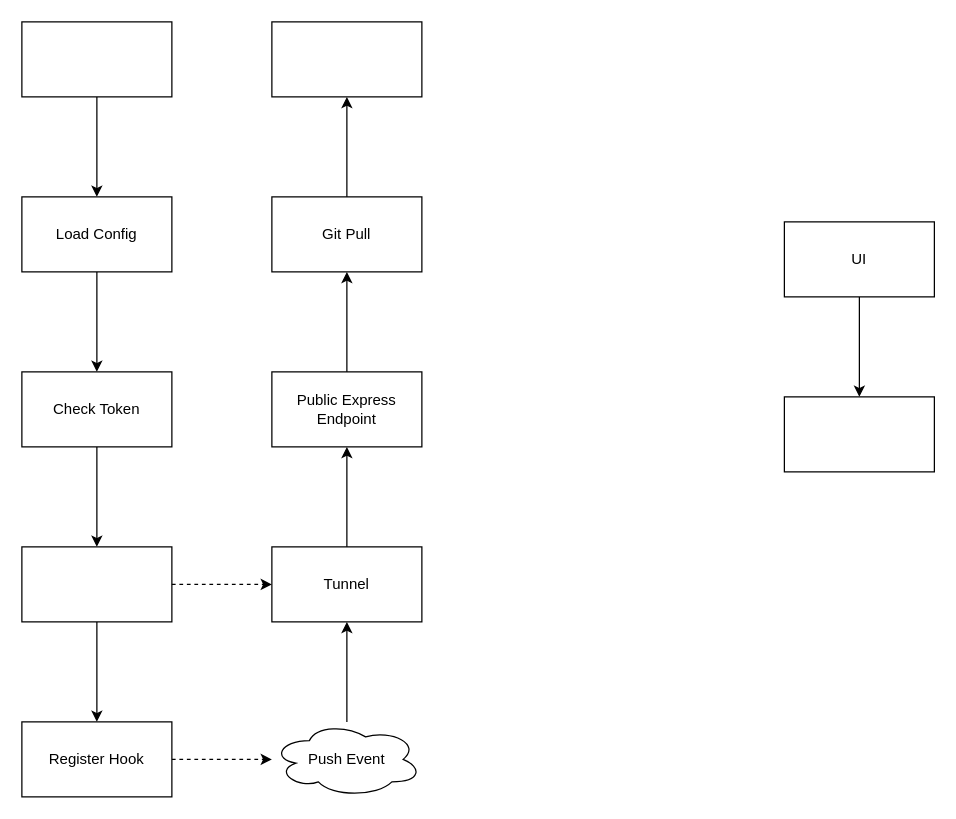
Image size: 956x819. Some labels were removed from this diagram. The shapes that lost their labels are listed below. From the top down, each one's box as (x1, y1, x2, y2) in pixels, then its label:
(21, 21, 172, 97): Start
(271, 21, 422, 97): Execute Script
(783, 396, 934, 472): List Repositories
(21, 546, 172, 622): Start Tunnel
